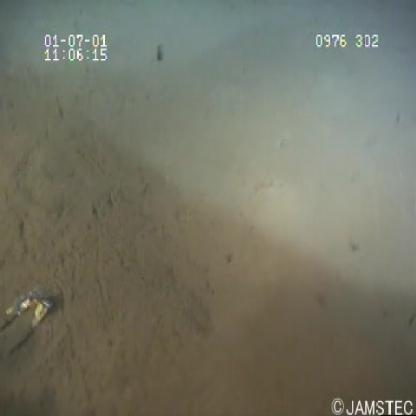Rác: (1, 269, 61, 369)
